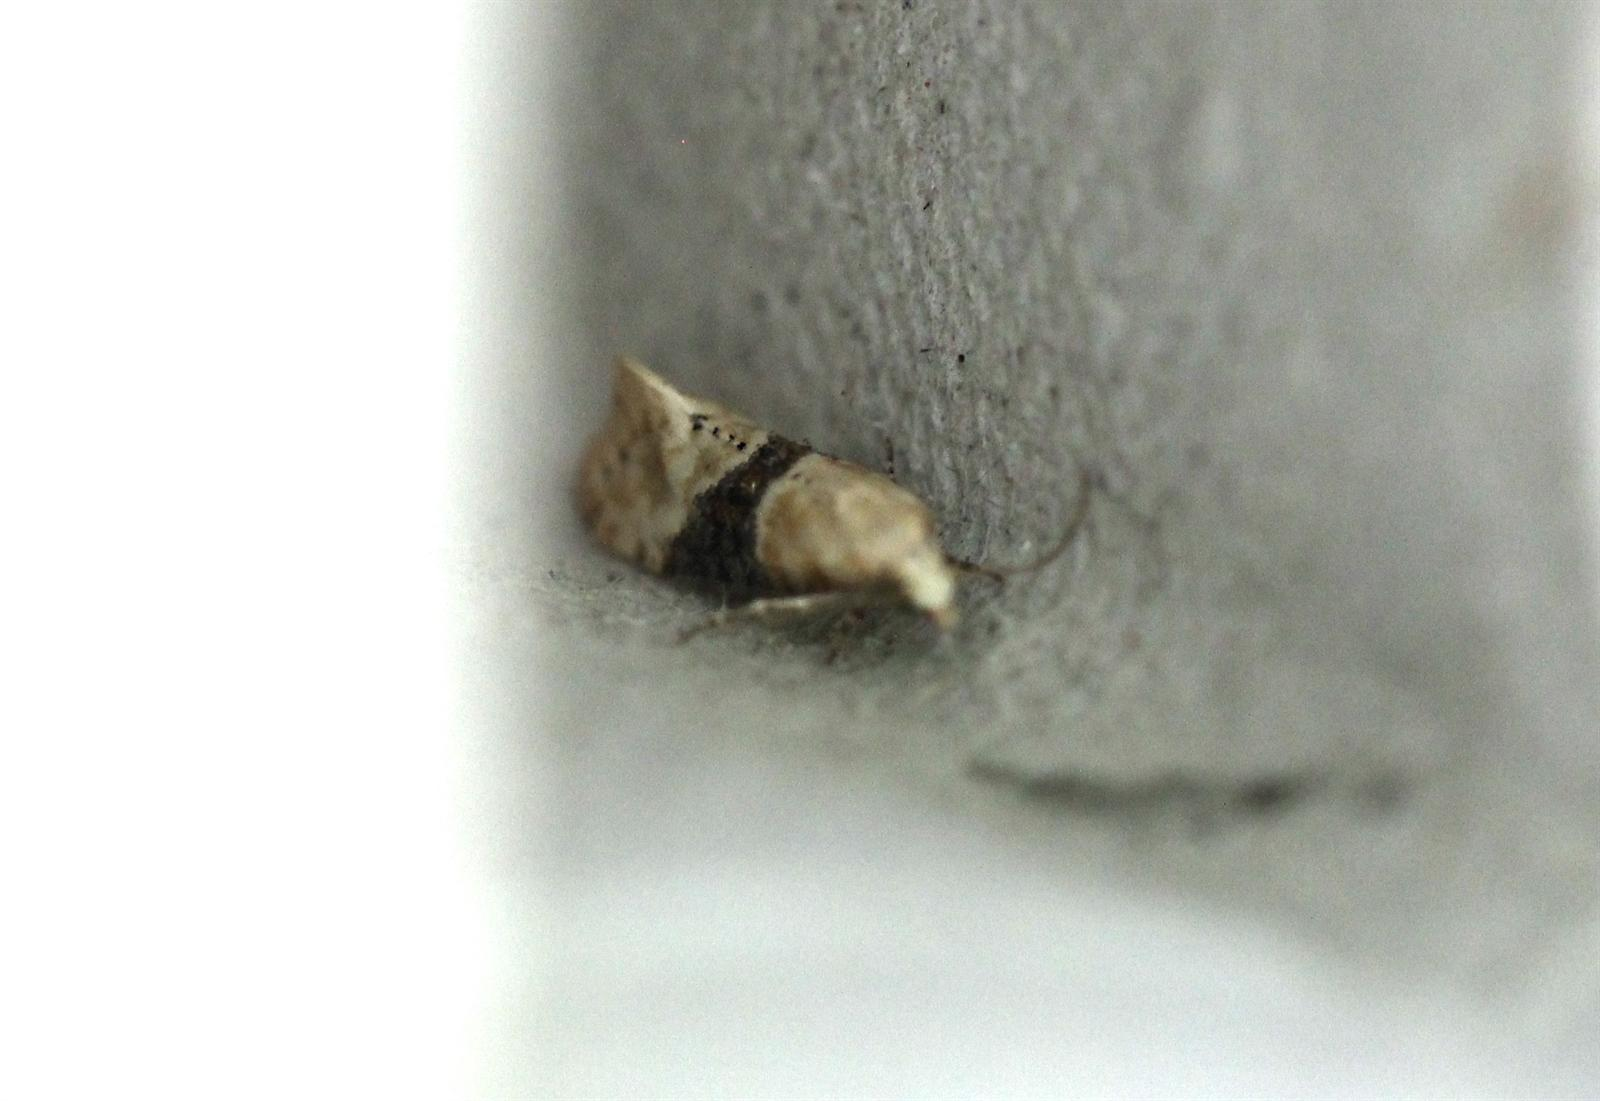Eupoecilia Ambiguella: (567, 348, 1095, 649)
